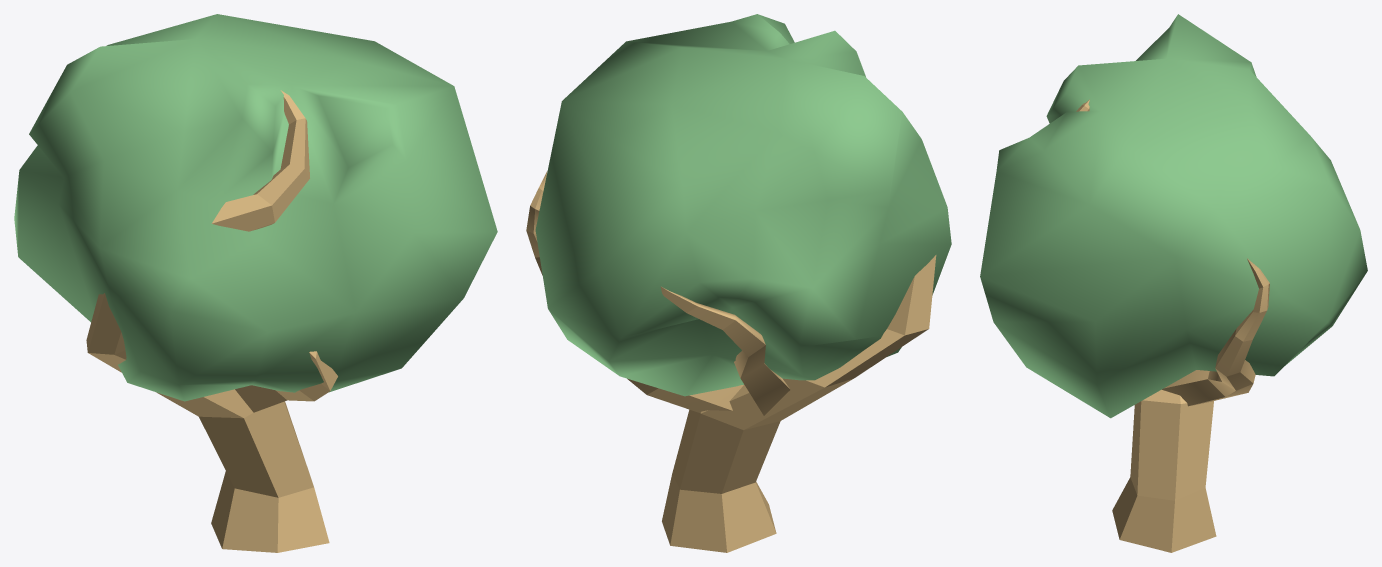
File: Tree01.fbx
3 renders of one model, left to right at view 1: azimuth 30°, elevation 25°; view 2: azimuth 150°, elevation 25°; view 3: azimuth 270°, elevation 25°, orthographic. The views are drawn at different scales.
Parts seen in each view (by area): view 1: foliage_msh01, treeBranches_msh01; view 2: foliage_msh01, treeBranches_msh01; view 3: foliage_msh01, treeBranches_msh01.
Part boxes in pixels (<box>): foliage_msh01: <box>14,14,497,401</box>; treeBranches_msh01: <box>86,90,337,552</box>; foliage_msh01: <box>535,14,951,396</box>; treeBranches_msh01: <box>526,171,936,552</box>; foliage_msh01: <box>980,14,1367,418</box>; treeBranches_msh01: <box>1076,99,1269,552</box>.
Bounding box in the file's own units: 0.8473 × 1.17 × 0.921.
